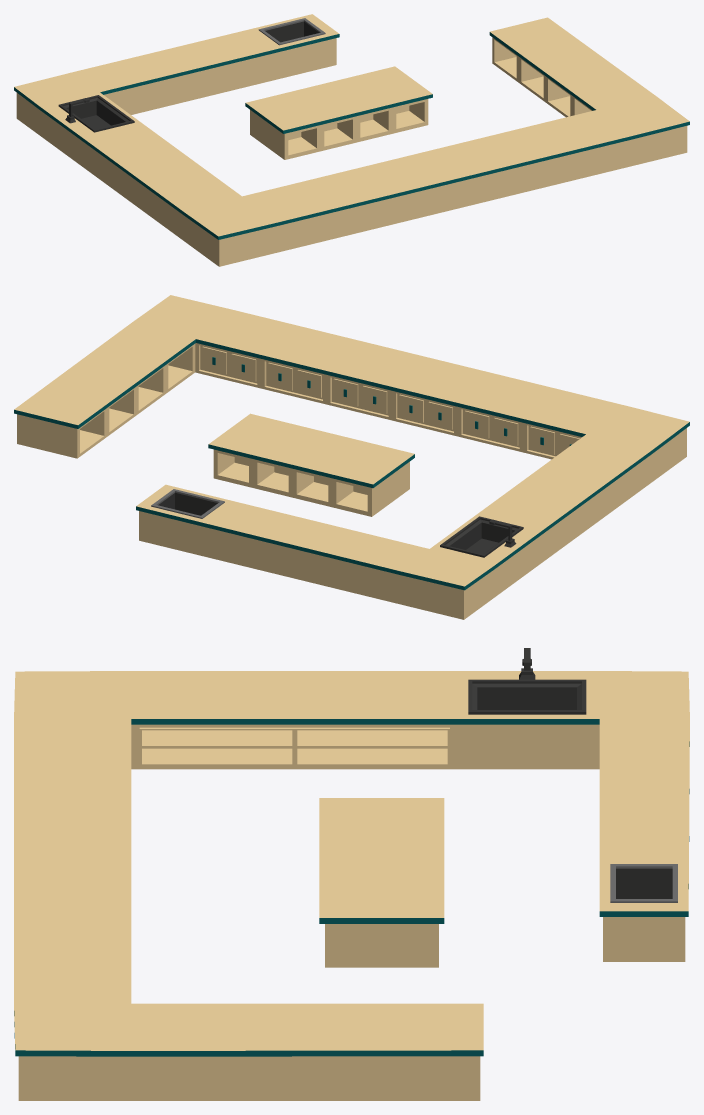
File: KitchenTable.fbx
The picture shows the model from 3 angles, top to bottom: view 1: azimuth 30°, elevation 25°; view 2: azimuth 150°, elevation 25°; view 3: azimuth 270°, elevation 25°; orthographic projection. The views are drawn at different scales.
Visible parts, largest first — view 1: kitchen Table; view 2: kitchen Table; view 3: kitchen Table.
Boxes of the visible parts, left/top/right/bottom form: kitchen Table: left=14, top=14, right=689, bottom=266; kitchen Table: left=14, top=295, right=689, bottom=619; kitchen Table: left=14, top=648, right=689, bottom=1100.
Size of the model in its own units: 10.03 by 0.9994 by 7.54.
